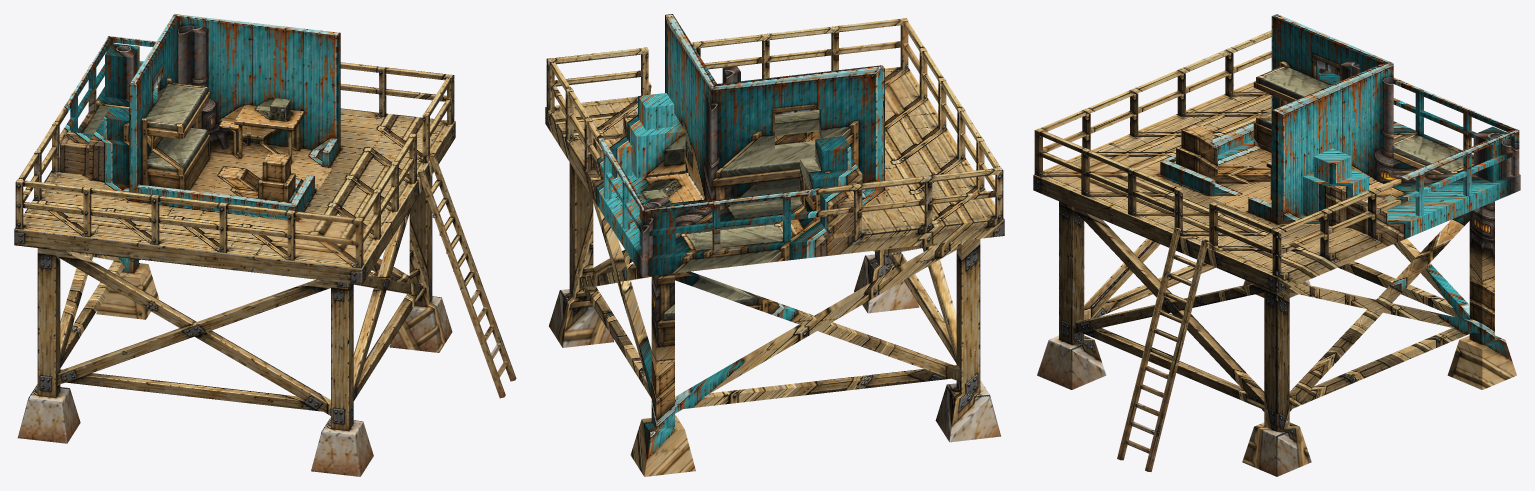
Rendered from start_tower_cut.glb.
The picture shows the model from 3 angles, left to right: view 1: azimuth 30°, elevation 25°; view 2: azimuth 150°, elevation 25°; view 3: azimuth 270°, elevation 25°; orthographic projection. The views are drawn at different scales.
Visible parts, largest first — view 1: tower_cut_game; view 2: tower_cut_game; view 3: tower_cut_game.
Part boxes in pixels (x1,y1,x2,y2): tower_cut_game: (14,14,516,476); tower_cut_game: (545,14,1004,476); tower_cut_game: (1033,14,1520,476).
Size of the model in its own units: 9.9 by 7 by 9.9.
1 material, 1 textured.
